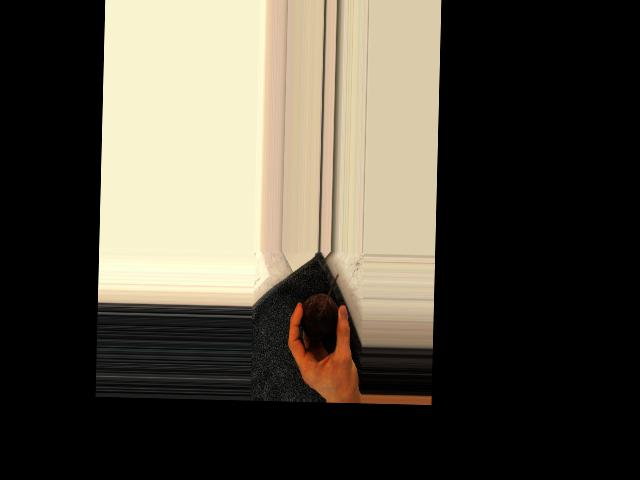beet: (300, 272, 339, 341)
